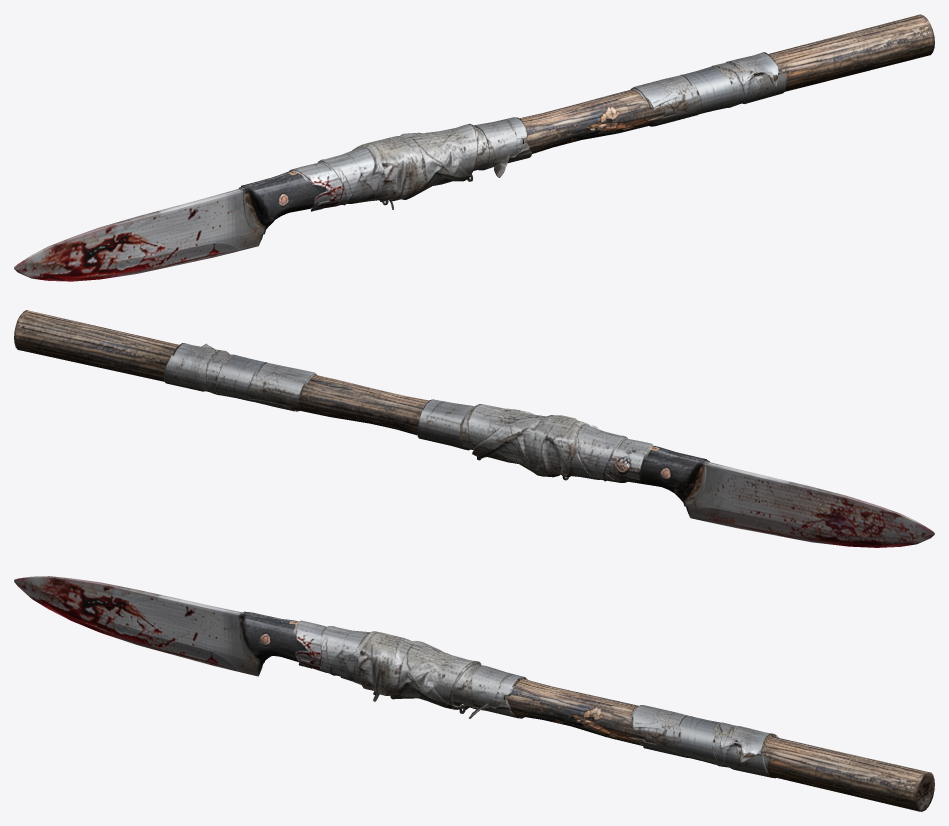
Rendered from tripo_convert_19957e70-6b9f-445e-8ca4-ff4a1696e9b0.fbx.
3 renders of one model, top to bottom at view 1: azimuth 30°, elevation 25°; view 2: azimuth 150°, elevation 25°; view 3: azimuth 330°, elevation 25°, orthographic. The views are drawn at different scales.
Visible parts, largest first — view 1: tripo_node_19957e70; view 2: tripo_node_19957e70; view 3: tripo_node_19957e70.
Boxes of the visible parts, left/top/right/bottom form: tripo_node_19957e70: left=14, top=14, right=934, bottom=281; tripo_node_19957e70: left=14, top=310, right=934, bottom=547; tripo_node_19957e70: left=14, top=576, right=934, bottom=811.
Bounding box in the file's own units: 0.9995 × 0.0737 × 0.0649.
Materials: 1 (1 with a texture image).
